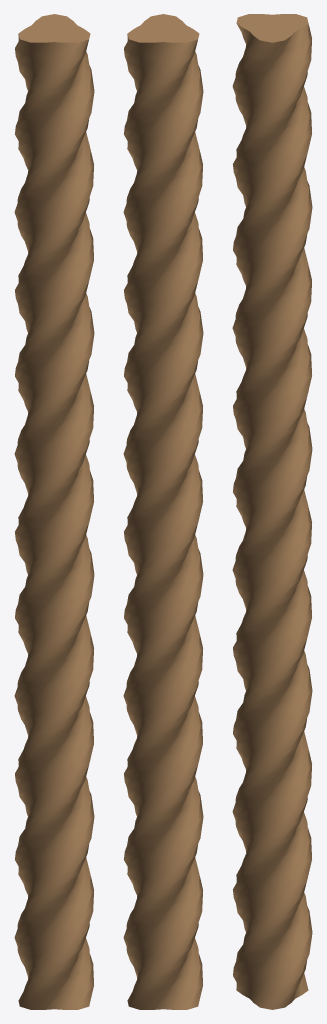
The model's file is SM_TheatreRope_Segment.fbx.
3 views of the same model, side by side, from view 1: azimuth 90°, elevation 25°; view 2: azimuth 210°, elevation 25°; view 3: azimuth 270°, elevation 25° (orthographic).
Visible parts, largest first — view 1: SM_TheatreRope_Segment; view 2: SM_TheatreRope_Segment; view 3: SM_TheatreRope_Segment.
Part boxes in pixels (x1,y1,x2,y2): SM_TheatreRope_Segment: (14,14,94,1009); SM_TheatreRope_Segment: (123,14,203,1009); SM_TheatreRope_Segment: (232,14,312,1009).
Bounding box in the file's own units: 7.5 × 7.5 × 100.
